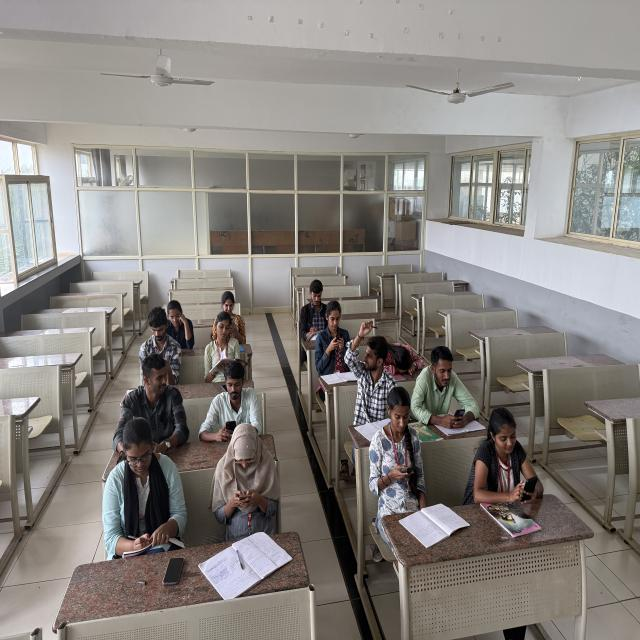Hand Rising: (345, 314, 394, 418)
Reading: (205, 311, 248, 376), (163, 300, 198, 347)
Sleeping: (378, 338, 427, 375)
Using Phone: (208, 422, 284, 534), (472, 408, 544, 507), (371, 384, 428, 495), (197, 360, 268, 444), (412, 343, 478, 433), (135, 306, 183, 377), (315, 299, 352, 366), (210, 290, 247, 341)
Writing: (99, 409, 189, 551), (298, 276, 329, 337)
